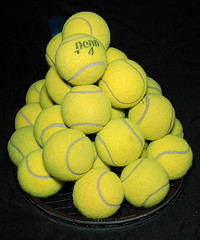tennis ball: (42, 129, 95, 183), (55, 31, 107, 83), (60, 83, 112, 133), (71, 169, 123, 218), (100, 59, 149, 109), (122, 158, 170, 209), (16, 148, 63, 198), (95, 117, 144, 164), (128, 93, 175, 140), (146, 135, 192, 179), (61, 10, 111, 47), (33, 103, 65, 147), (7, 125, 43, 162), (14, 104, 43, 129), (24, 77, 46, 104)
